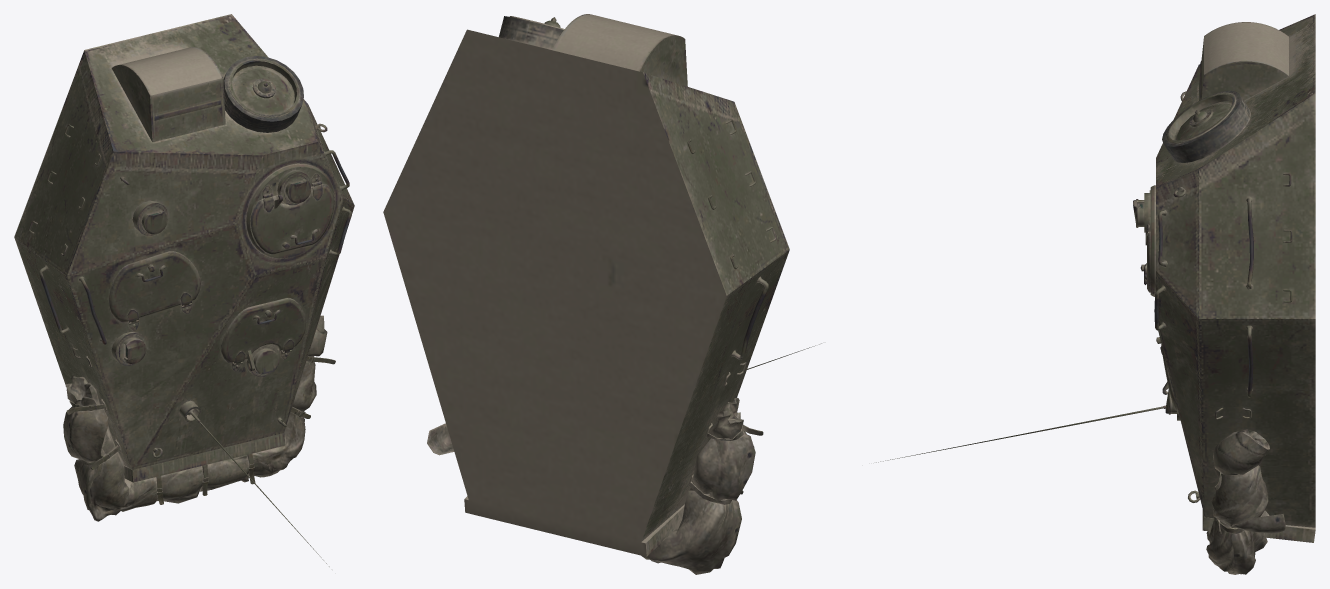
Rendered from Turret_01.glb.
The picture shows the model from 3 angles, left to right: view 1: azimuth 30°, elevation 25°; view 2: azimuth 150°, elevation 25°; view 3: azimuth 270°, elevation 25°; orthographic projection. The views are drawn at different scales.
Visible parts, largest first — view 1: set_0_group_0; view 2: set_0_group_0; view 3: set_0_group_0.
Part boxes in pixels (left/top/right/bottom): set_0_group_0: left=14, top=14, right=354, bottom=566; set_0_group_0: left=383, top=14, right=821, bottom=574; set_0_group_0: left=876, top=14, right=1315, bottom=574.
Bounding box in the file's own units: 2.21 × 3.12 × 2.65.
Materials: 1 (1 with a texture image).
